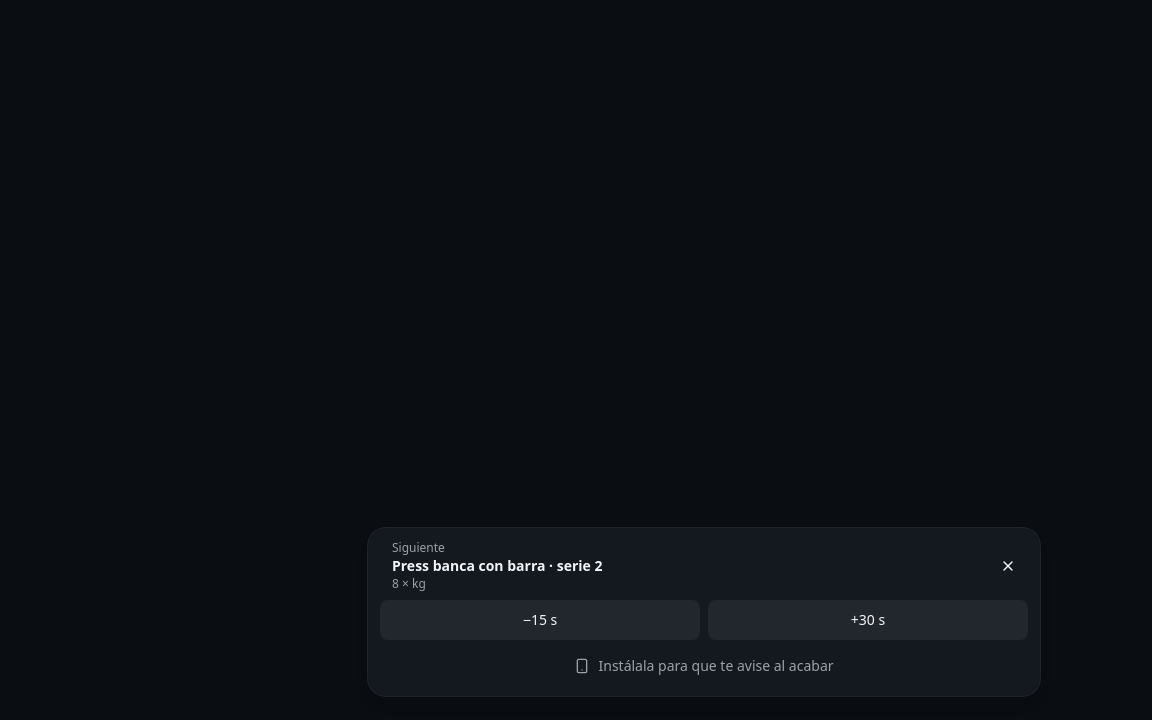
Test: End-of-rest notification › on an iPhone without the app installed, says how to install it instead
Click the button "Instálala para que te avise al acabar" at (704,666), box [380, 648, 1028, 684]
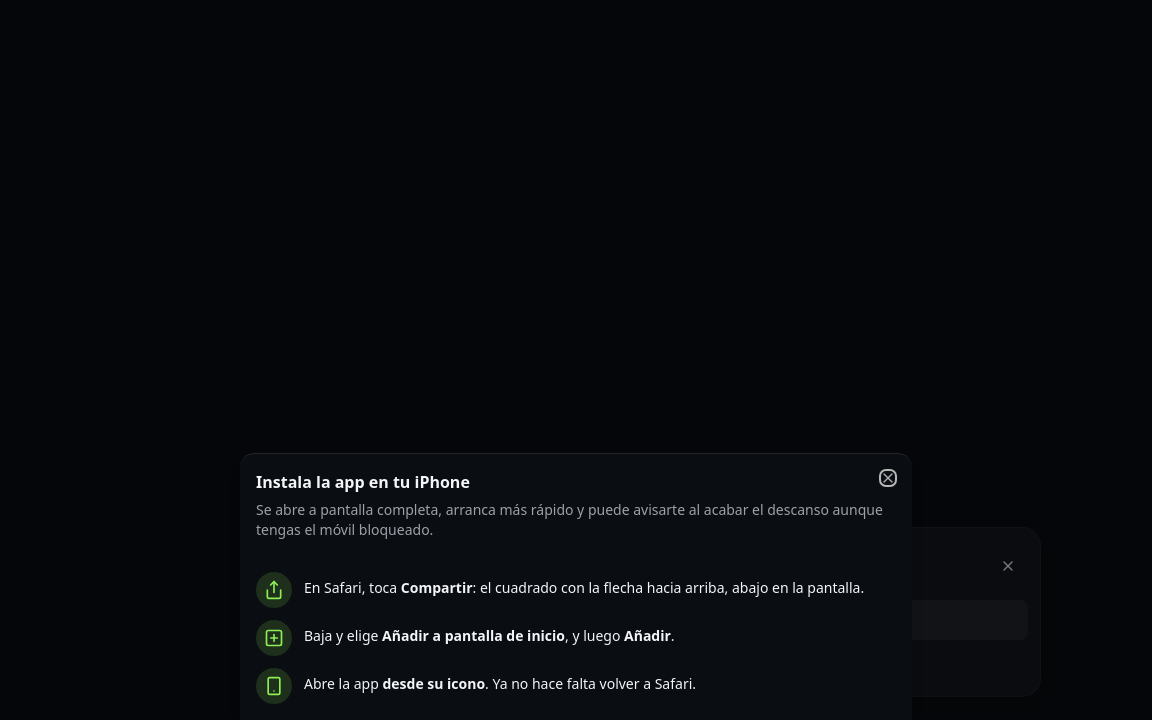
Check: the heading "Instala la app en tu iPhone" is shown, box [256, 471, 470, 493]
Check: the text "Añadir a pantalla de inicio" is shown, box [382, 626, 565, 645]
